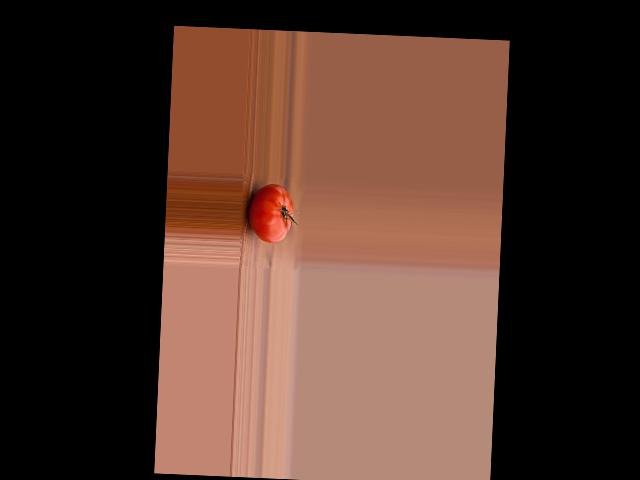tomato: (247, 183, 294, 244)
